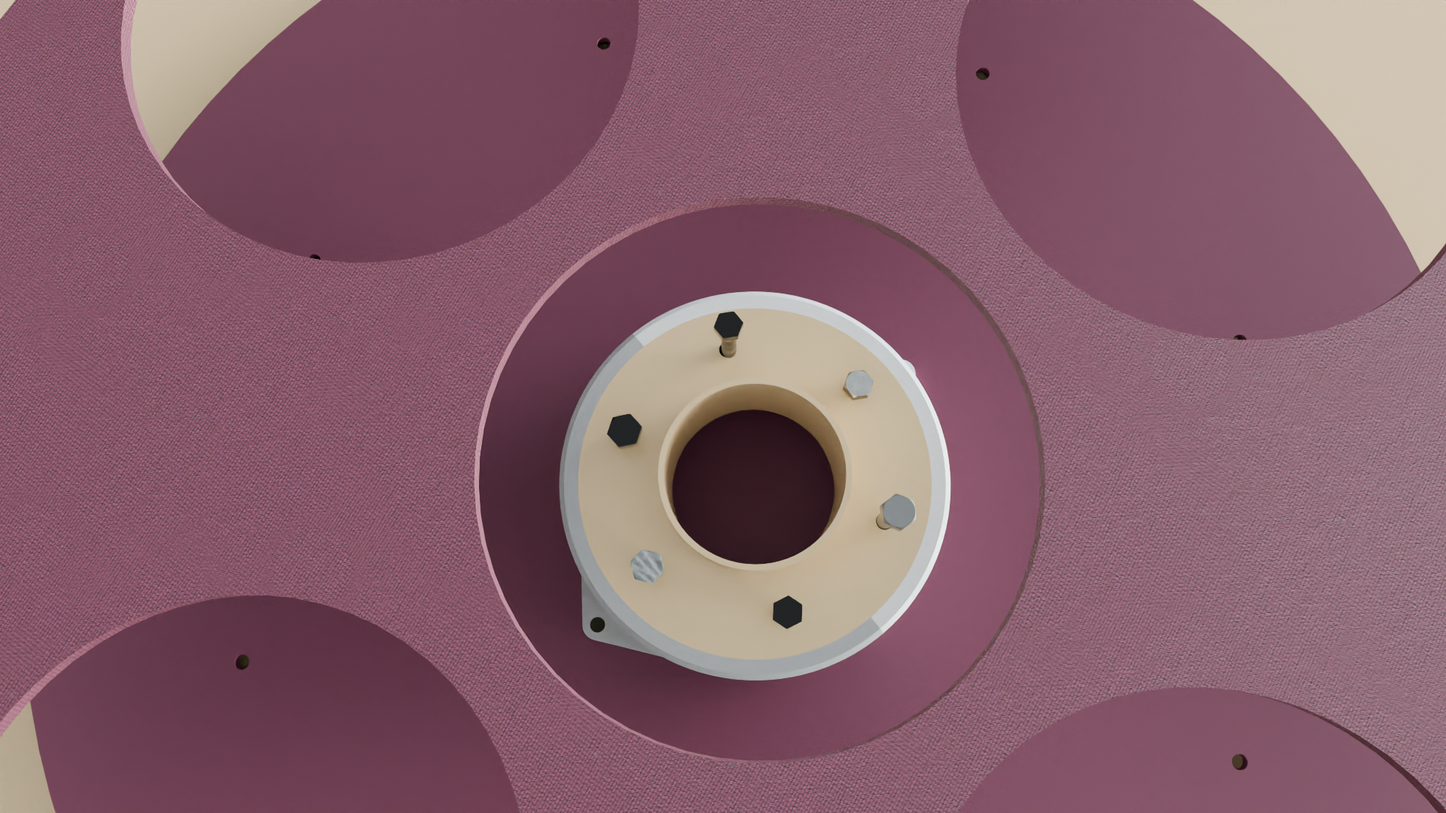bolt: (881, 494, 916, 530), (607, 413, 642, 447), (630, 550, 664, 583), (773, 595, 803, 629), (844, 370, 874, 397), (714, 312, 743, 339)
